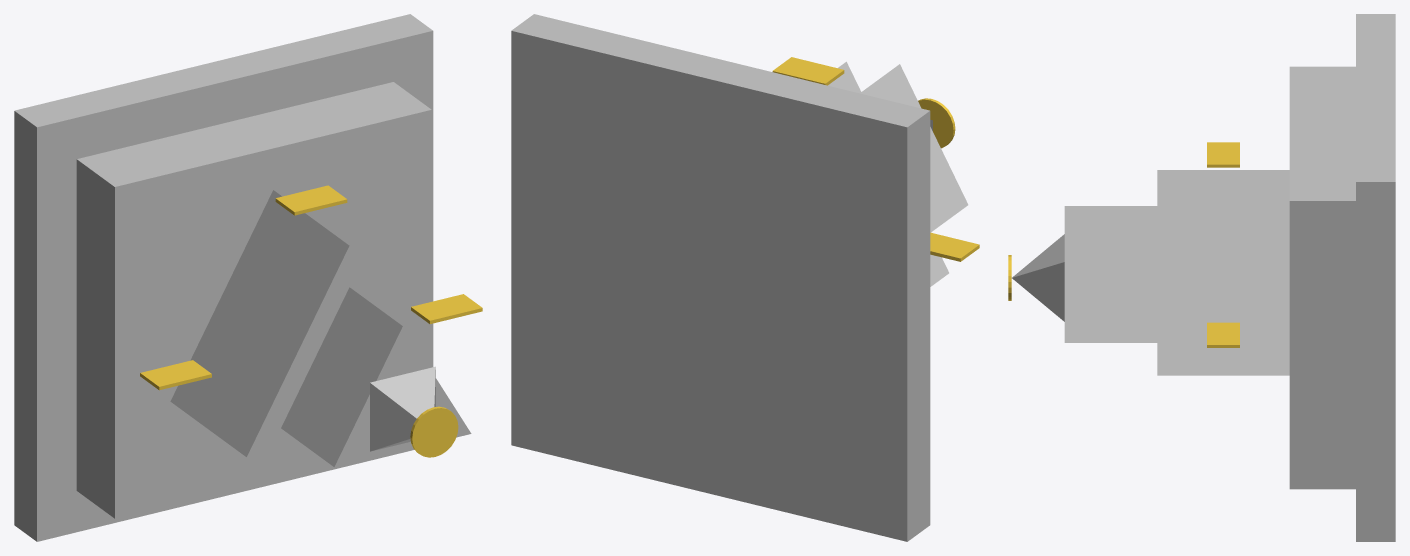
The model's file is bantayog.obj.
The picture shows the model from 3 angles, left to right: view 1: azimuth 30°, elevation 25°; view 2: azimuth 150°, elevation 25°; view 3: azimuth 270°, elevation 25°; orthographic projection. The views are drawn at different scales.
Size of the model in its own units: 6 by 6 by 5.85.
